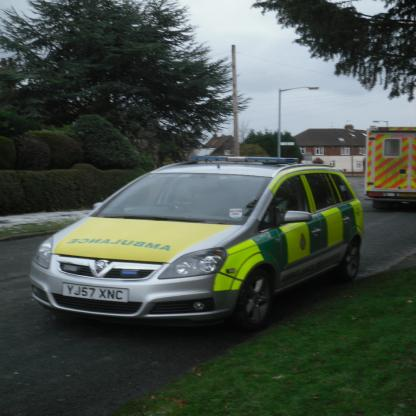Car: (23, 148, 370, 330)
